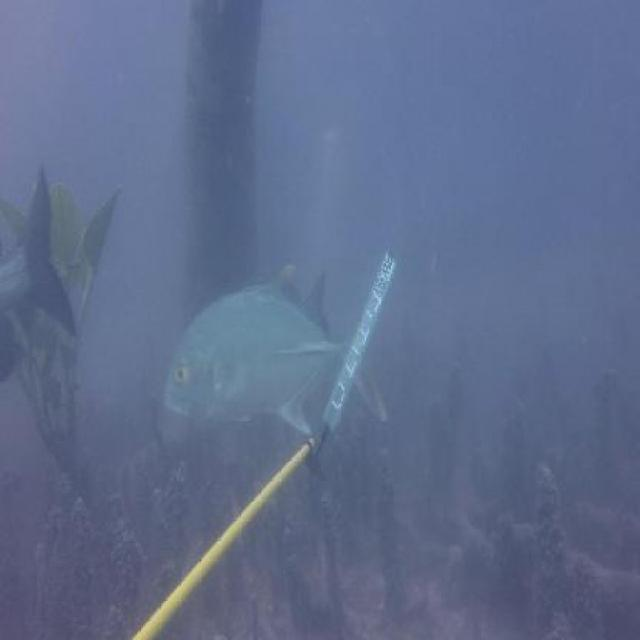Caranx: (162, 278, 390, 440)
acanthopagrus_palmaris: (1, 168, 76, 392), (239, 261, 330, 327)
